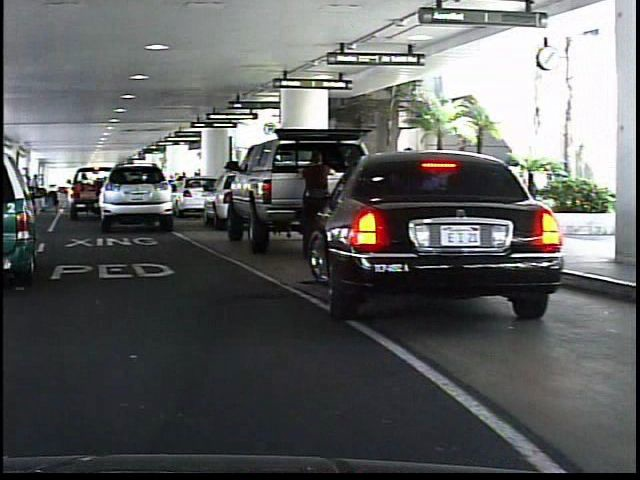person: (290, 149, 341, 255)
